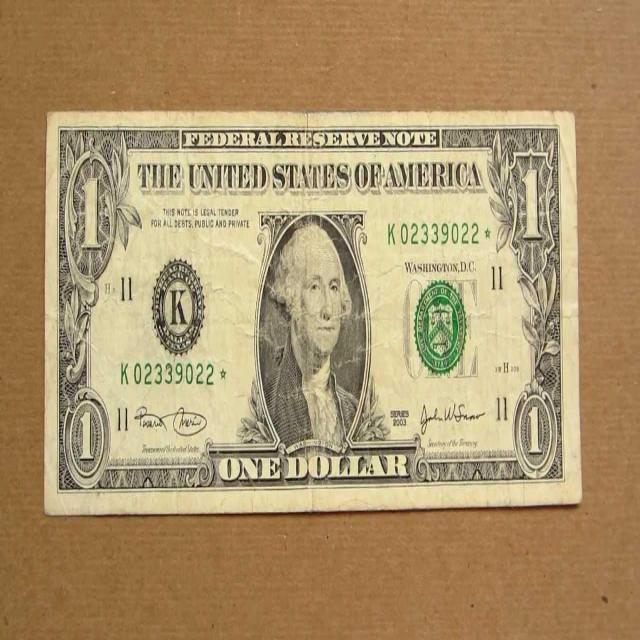1-Front: (46, 110, 580, 505)
